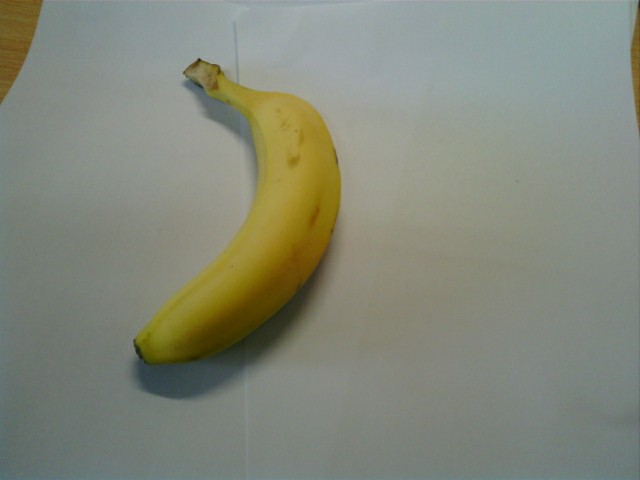fresh_banana: (132, 77, 342, 370)
